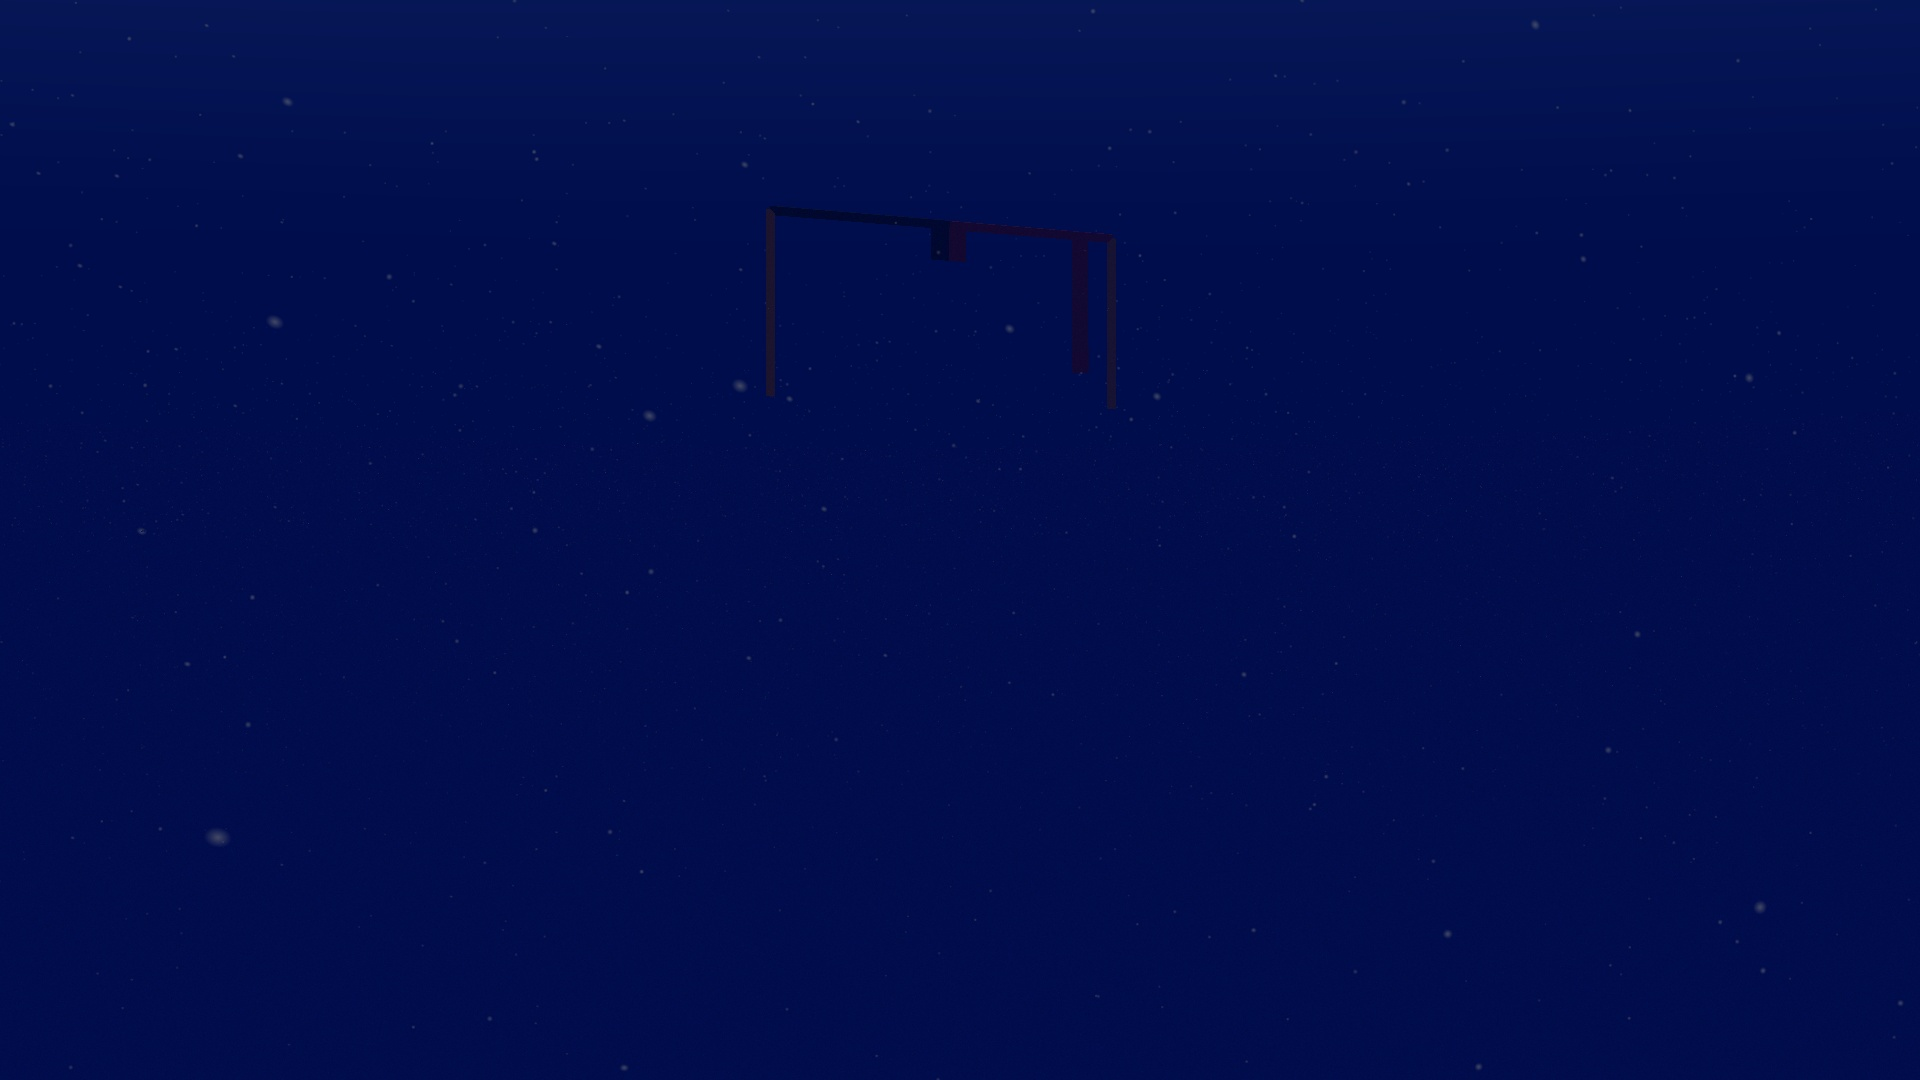Gate: (756, 195, 1126, 423)
